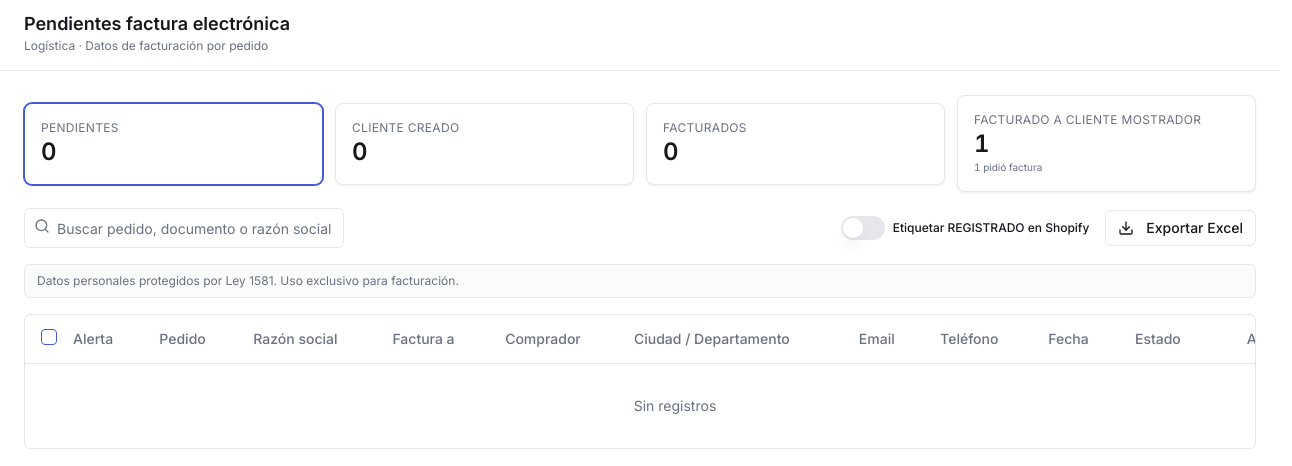
it: documentos de las cuatro pestañas › usa doc_factura y documento_direccion en facturado_mostrador
This screenshot has width=1292, height=466.
Click the button "Facturado a Cliente Mostrador 1 1 pidió factura": {"x": 1106, "y": 144} [957,95,1256,192]
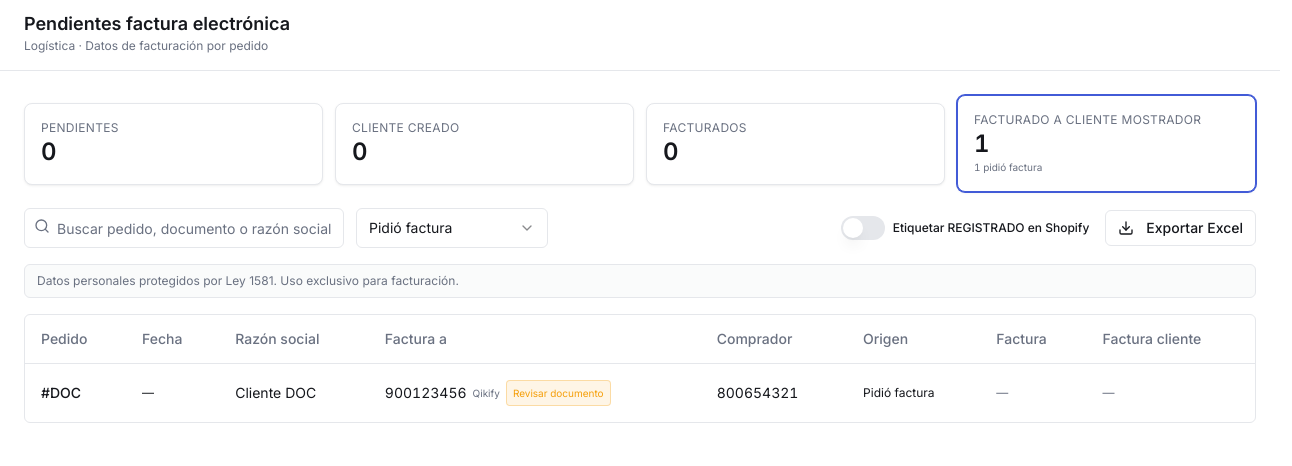
Expected: the text "900123456" is shown, [385,384,467,400]
Expected: the text "800654321" is shown, [701,363,847,422]
